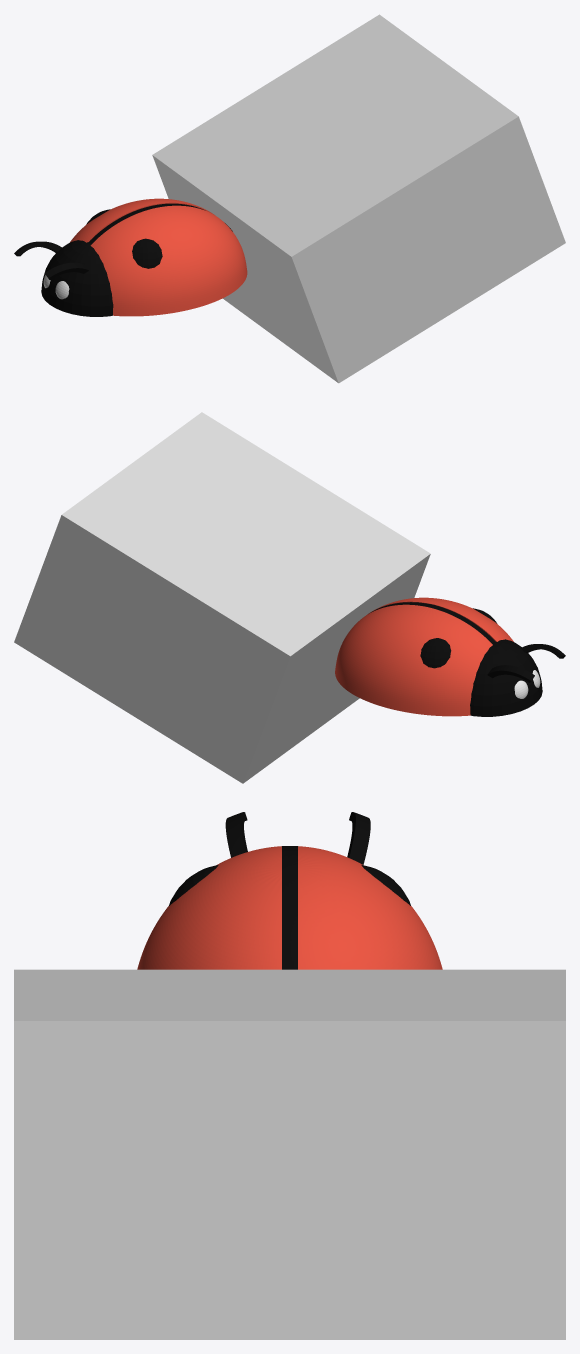
Rendered from Ladybird.glb.
The picture shows the model from 3 angles, top to bottom: view 1: azimuth 30°, elevation 25°; view 2: azimuth 150°, elevation 25°; view 3: azimuth 270°, elevation 25°; orthographic projection. The views are drawn at different scales.
Visible parts, largest first — view 1: Cube, Body, Head, L_Spot; view 2: Cube, Body, Head, R_Spot, Stripe; view 3: Cube, Body, Stripe, R_Tenna, L_Tenna.
Part boxes in pixels (x1,y1,x2,y2): Cube: [152, 14, 565, 383]; Body: [70, 198, 247, 316]; Head: [41, 240, 113, 316]; L_Spot: [132, 238, 162, 268]; Cube: [14, 412, 430, 783]; Body: [335, 597, 513, 716]; Head: [470, 639, 542, 716]; R_Spot: [420, 638, 451, 668]; Stripe: [369, 602, 495, 643]; Cube: [14, 969, 565, 1339]; Body: [137, 846, 442, 969]; Stripe: [282, 848, 297, 969]; R_Tenna: [347, 812, 370, 864]; L_Tenna: [225, 812, 247, 857].
Size of the model in its own units: 6.61 by 3.04 by 3.44.
